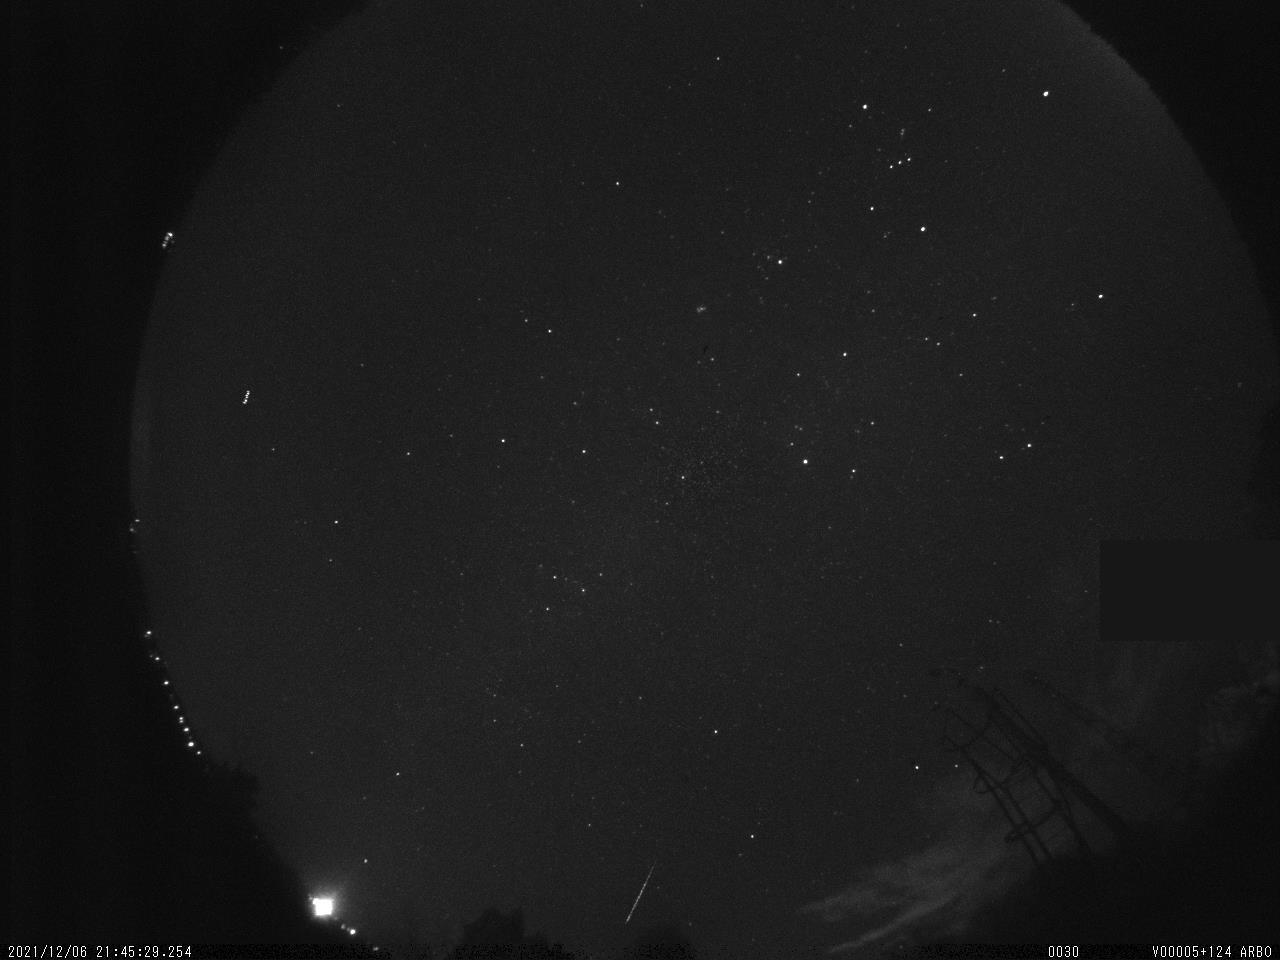meteor: (588, 855, 679, 936)
